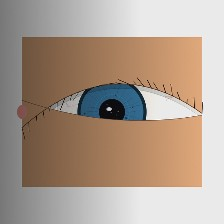hemorrhage_spot: (78, 94, 154, 155)
